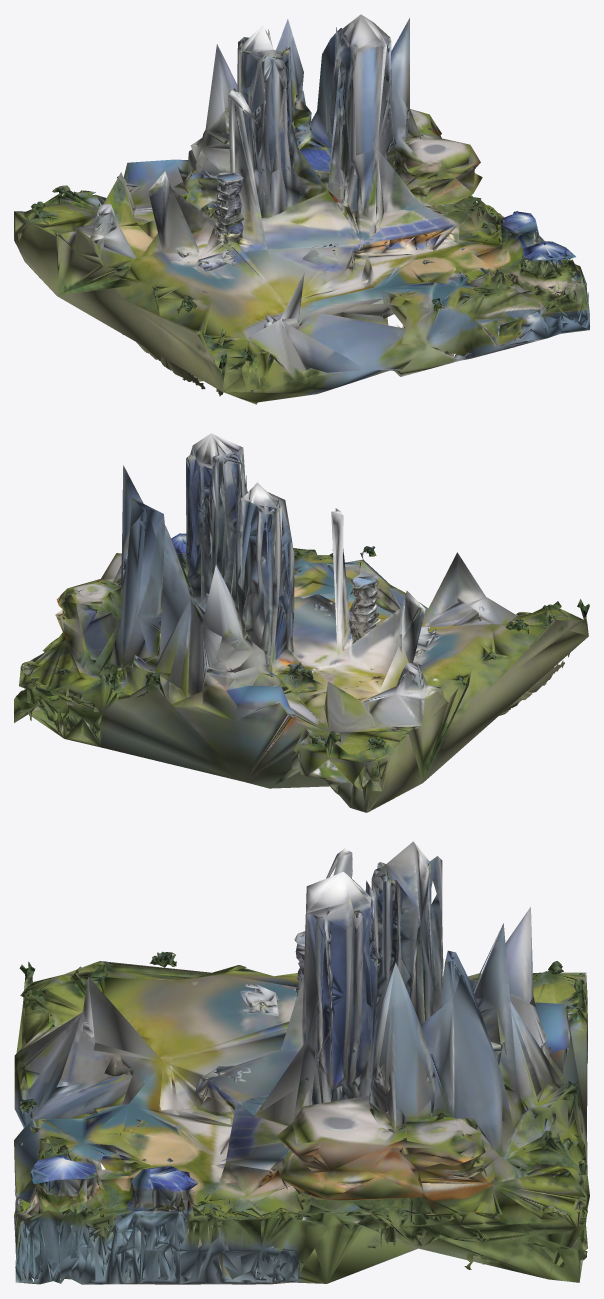
File: Duck.glb
The picture shows the model from 3 angles, top to bottom: view 1: azimuth 30°, elevation 25°; view 2: azimuth 150°, elevation 25°; view 3: azimuth 270°, elevation 25°; orthographic projection. The views are drawn at different scales.
Bounding box in the file's own units: 2.01 × 1.3 × 1.98.
1 material, 1 textured.
